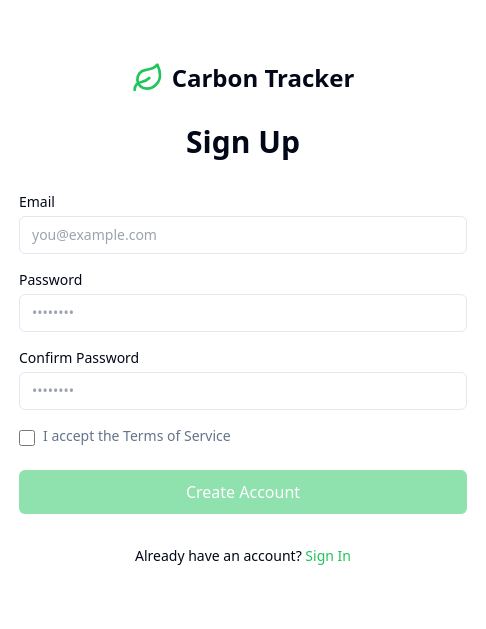
Test: SignUpPage › shows error message on failed sign-up
Type "test@example.com" into the field with test id "email-input" at (243, 235), box [19,216,467,254]
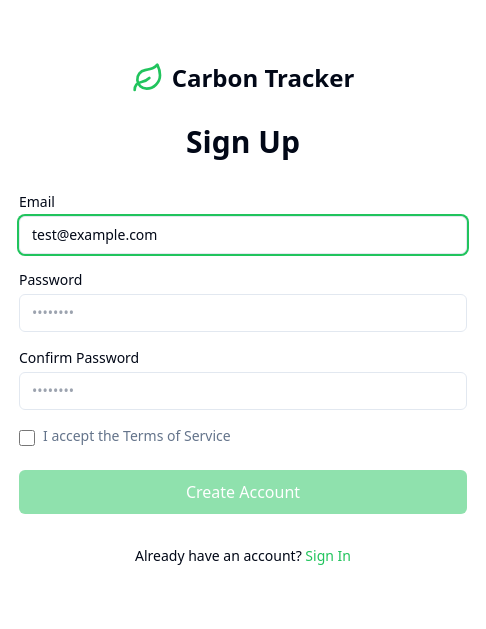
Type "password123" into the password field with test id "password-input" at (243, 313), box [19,294,467,332]
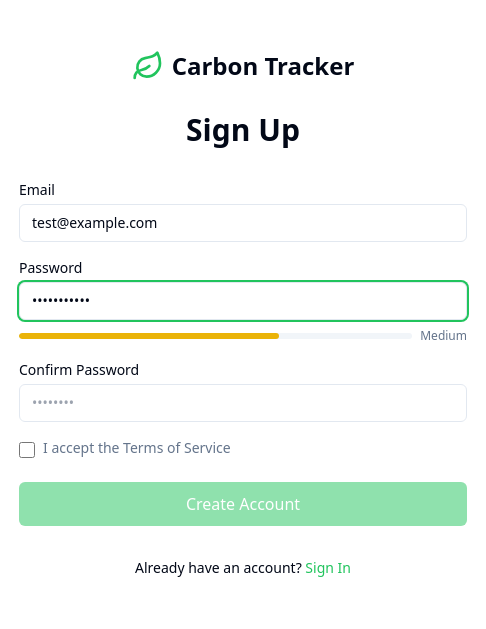
Type "password123" into the password field with test id "confirm-password-input" at (243, 403), box [19,384,467,422]
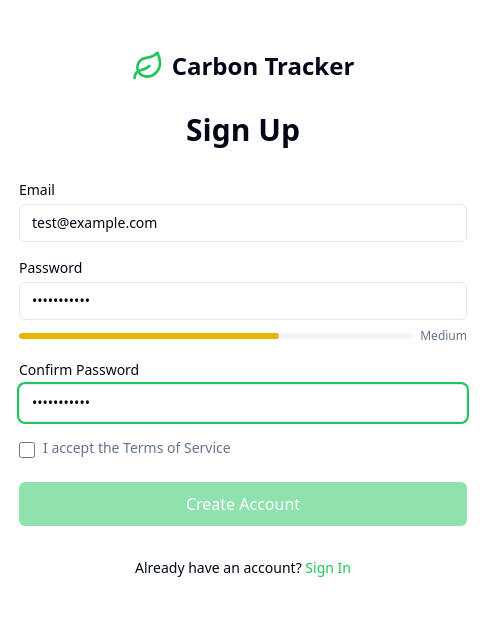
Click the checkbox with test id "terms-checkbox" at (27, 450), box [19,442,35,458]
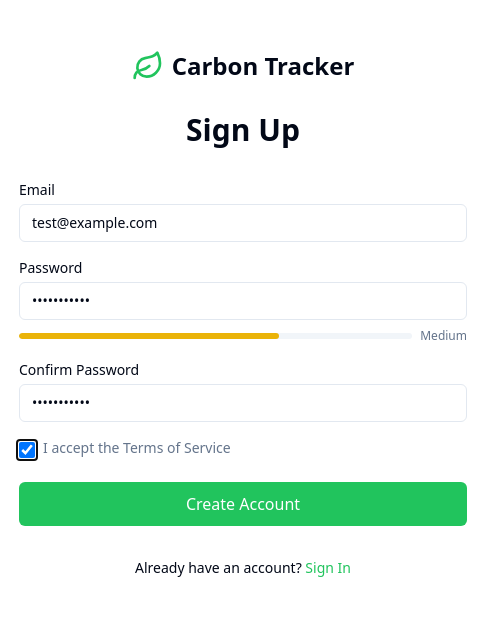
Click the button with test id "signup-button" at (243, 504), box [19,482,467,526]
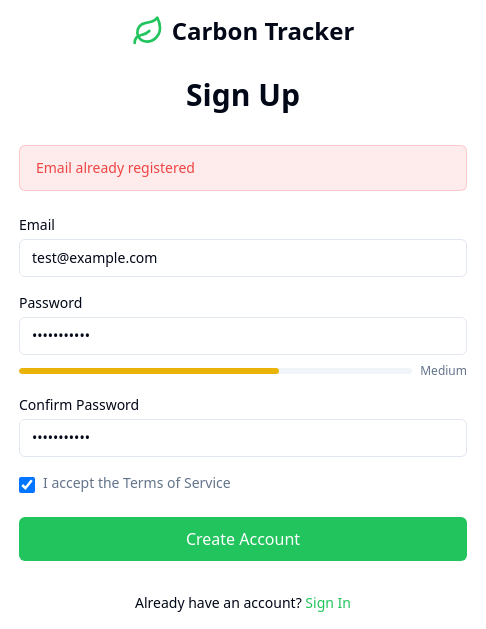
Expected: the message reads "Email already registered", [36,158,195,177]
